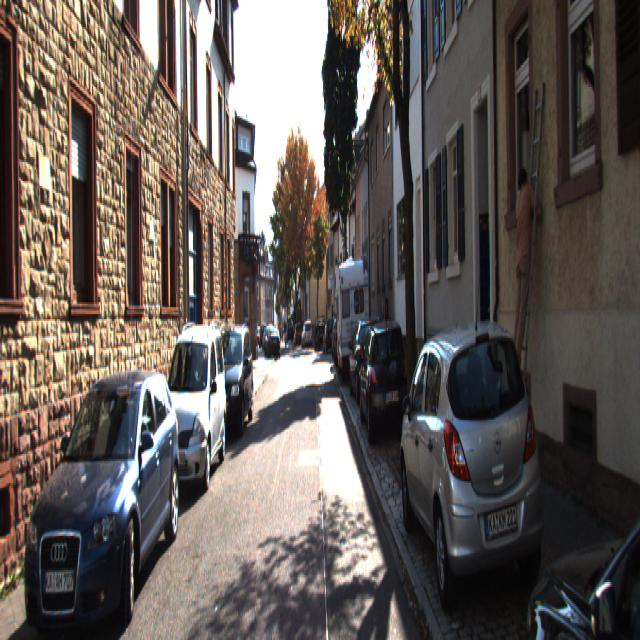Car: (398, 305, 552, 634), (12, 343, 183, 638), (514, 330, 639, 638), (152, 319, 229, 504), (357, 312, 411, 447), (208, 310, 255, 431), (334, 254, 372, 383), (347, 310, 388, 400), (312, 315, 329, 352), (322, 317, 337, 355), (267, 327, 282, 361), (300, 321, 314, 348)
